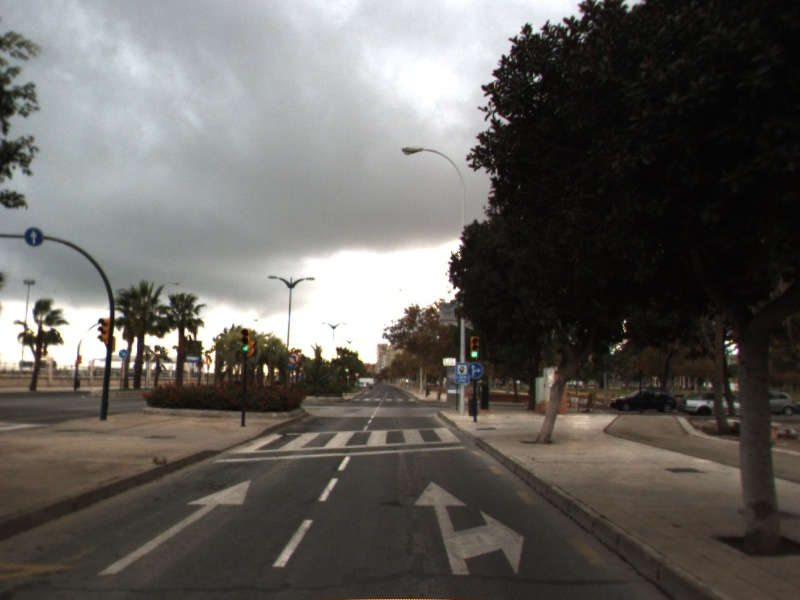STRAIGHT: (96, 477, 253, 578)
STRAIGHT_RIGHT: (412, 478, 527, 578)
